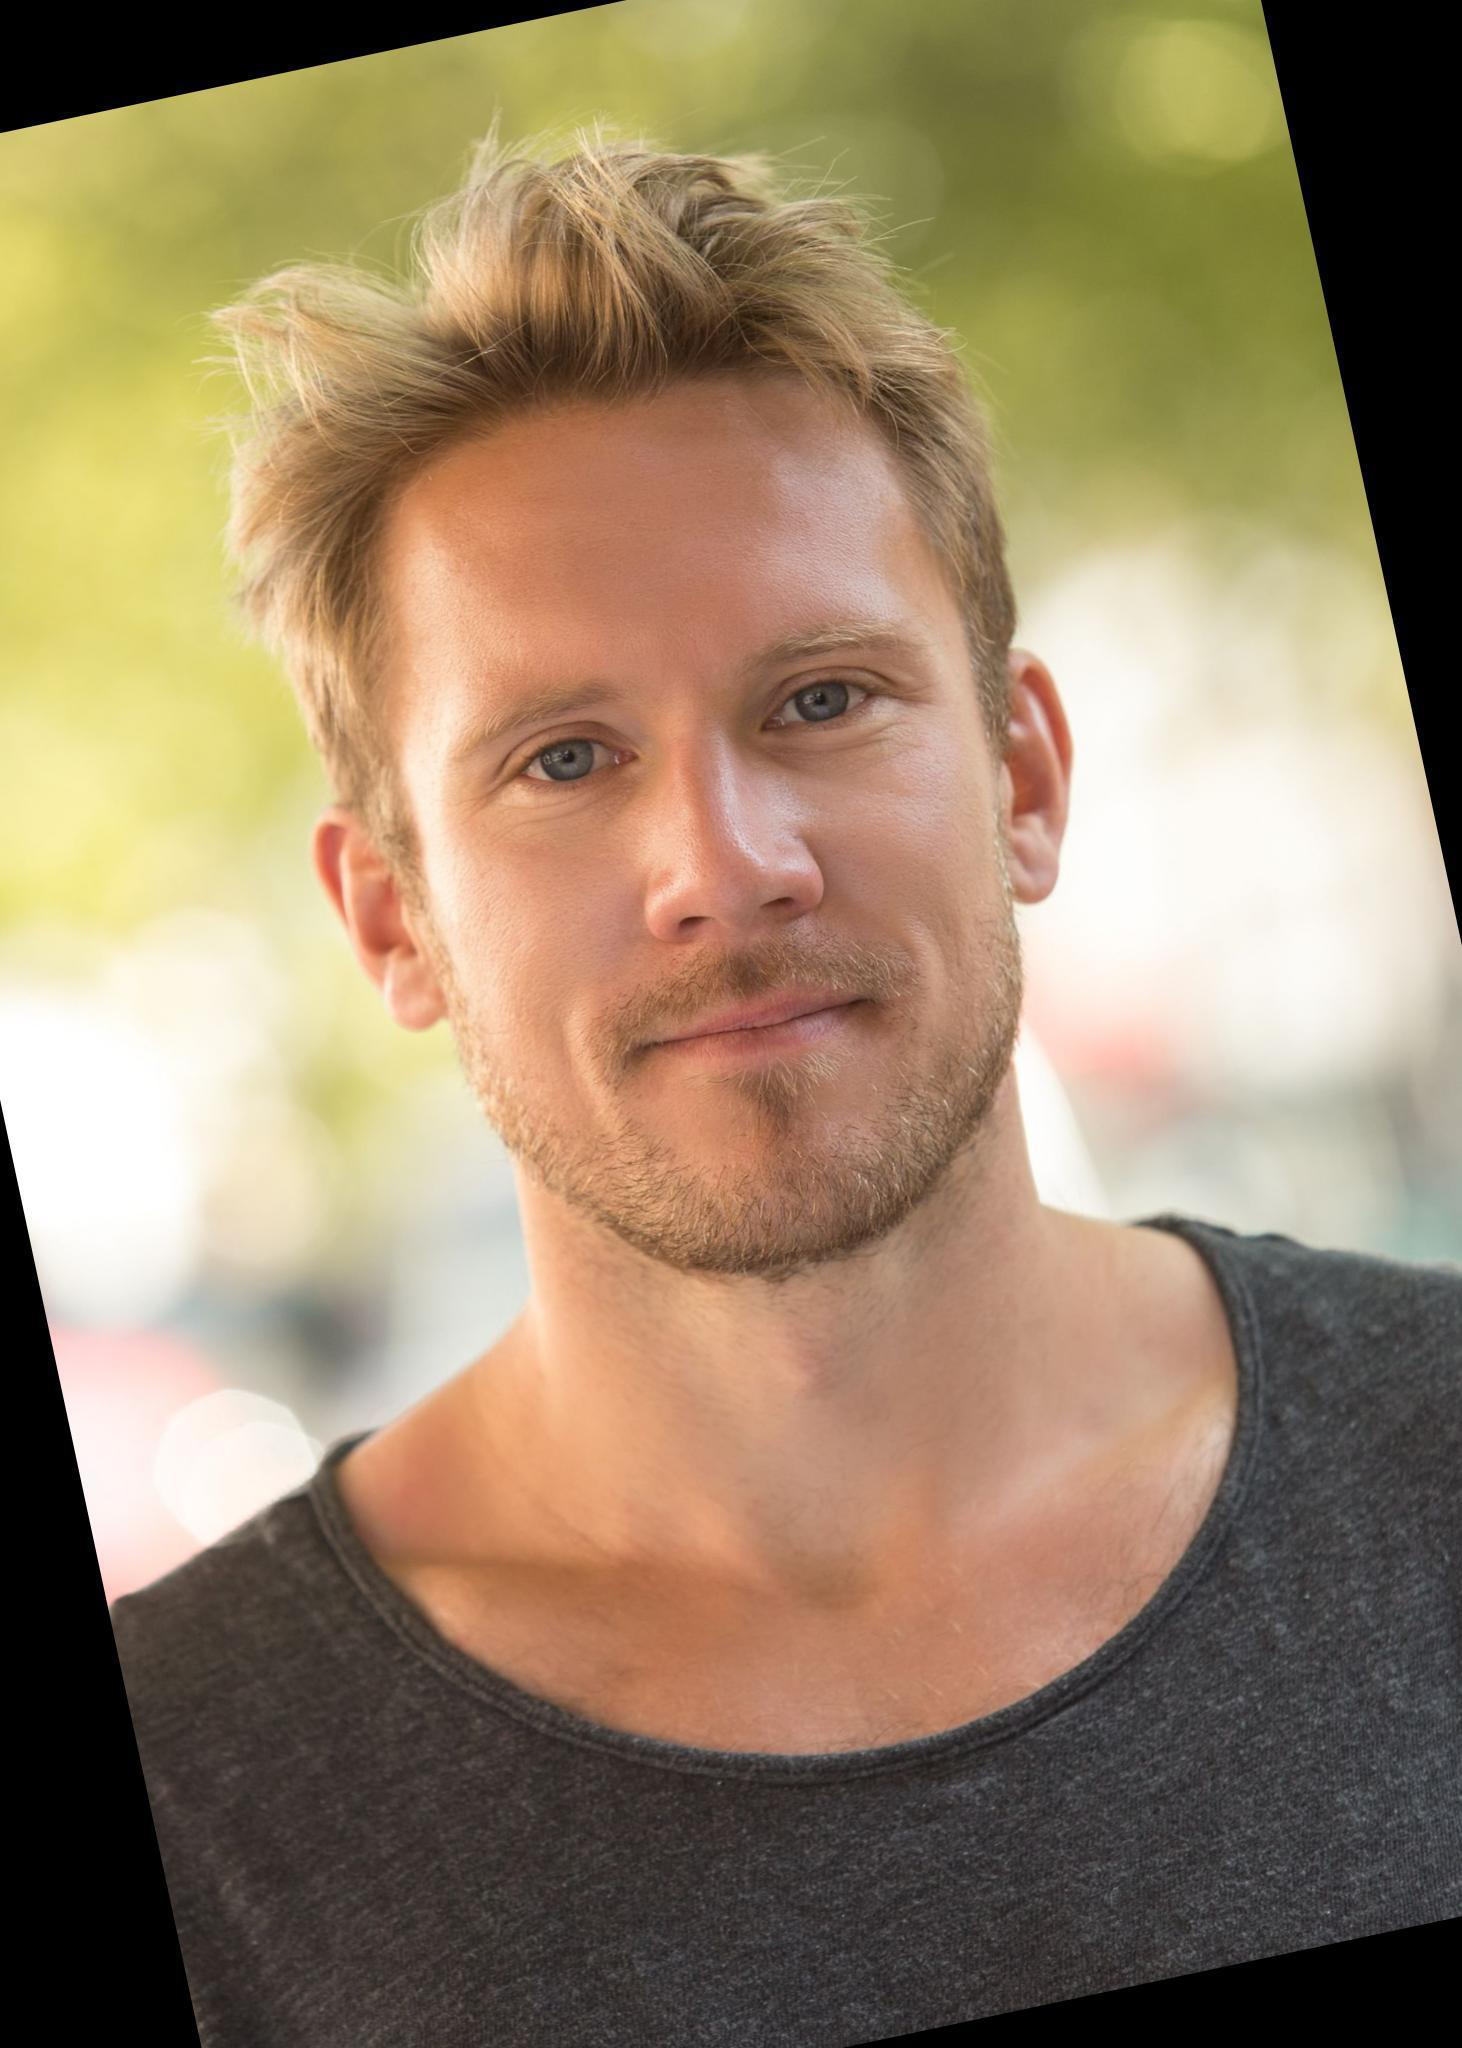Sober: (388, 421, 994, 1230)
